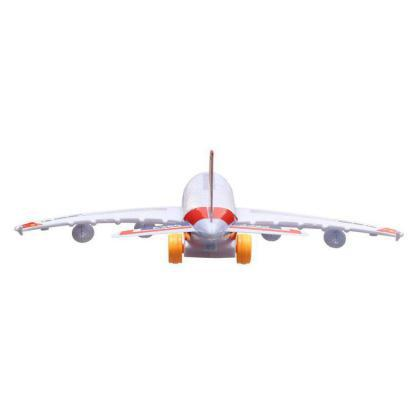CIV_Plane: (13, 150, 410, 268)
